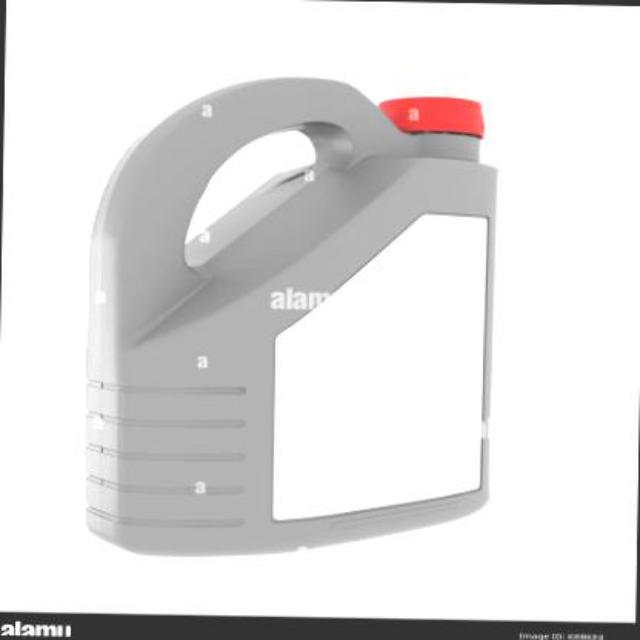chemical_plastic_gallon: (69, 65, 501, 568)
